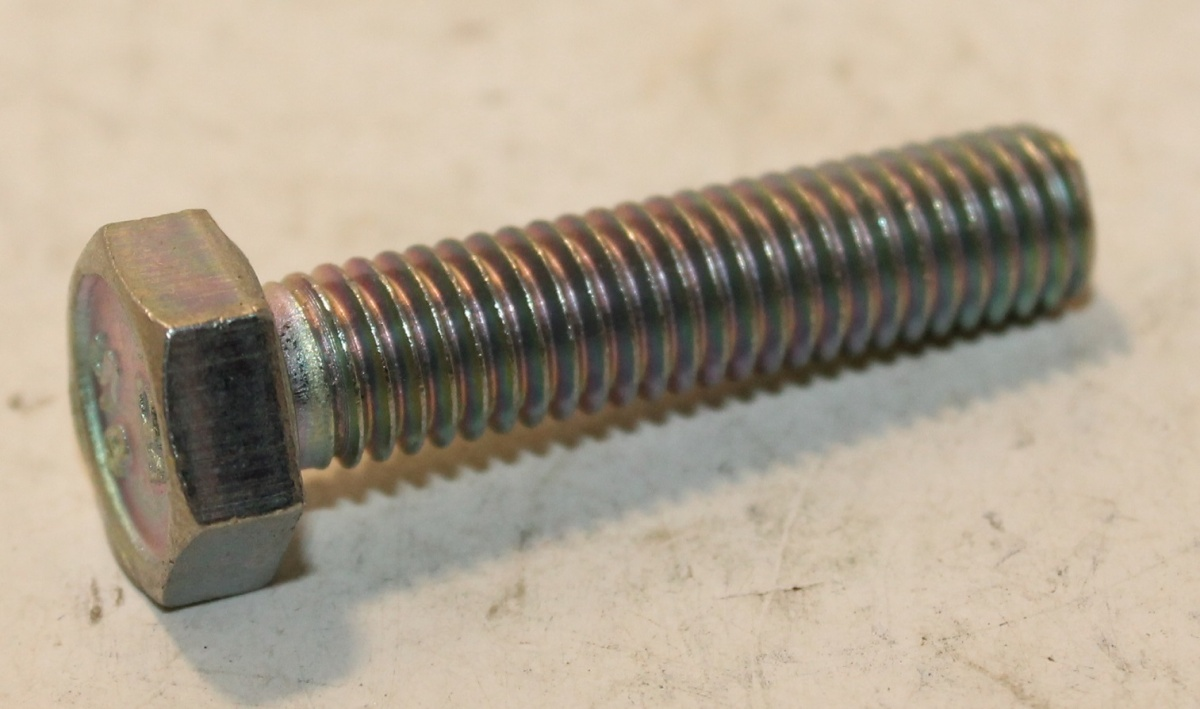screw: (57, 119, 1096, 615)
